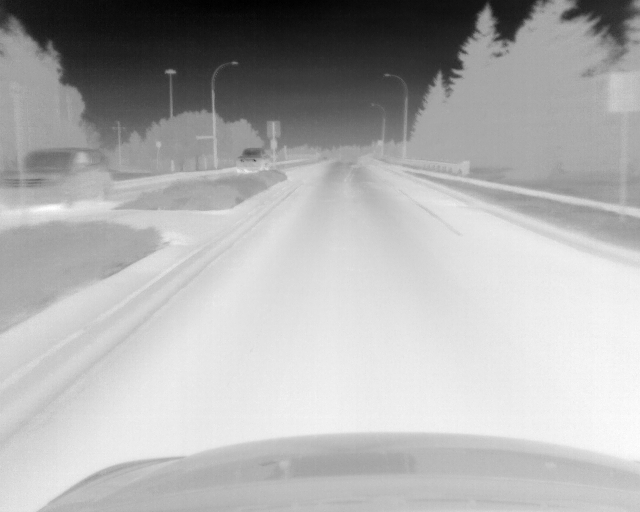car: (3, 147, 113, 206), (232, 148, 271, 173)
